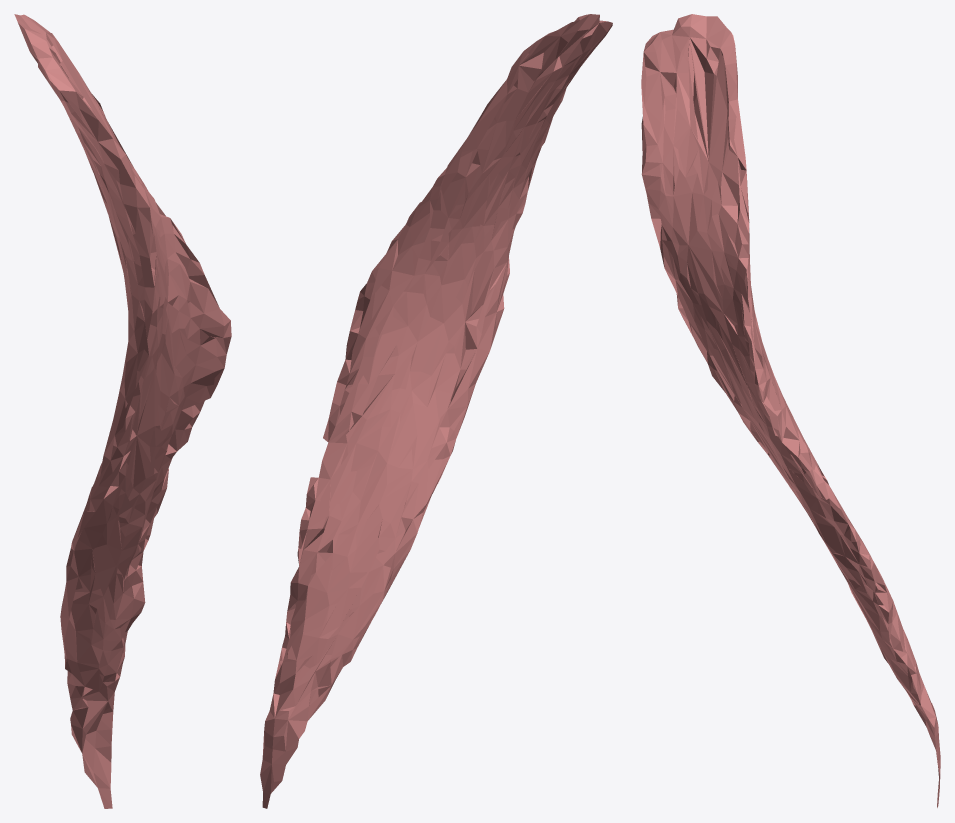
Rendered from Splenius_capitis_muscle.r.glb.
The picture shows the model from 3 angles, left to right: view 1: azimuth 30°, elevation 25°; view 2: azimuth 150°, elevation 25°; view 3: azimuth 270°, elevation 25°; orthographic projection. The views are drawn at different scales.
Visible parts, largest first — view 1: Splenius_capitis_muscle.r; view 2: Splenius_capitis_muscle.r; view 3: Splenius_capitis_muscle.r.
Part boxes in pixels (left/top/right/bottom): Splenius_capitis_muscle.r: left=14, top=14, right=231, bottom=808; Splenius_capitis_muscle.r: left=260, top=14, right=612, bottom=808; Splenius_capitis_muscle.r: left=641, top=14, right=940, bottom=807.
Bounding box in the file's own units: 0.0599 × 0.2128 × 0.0821.
